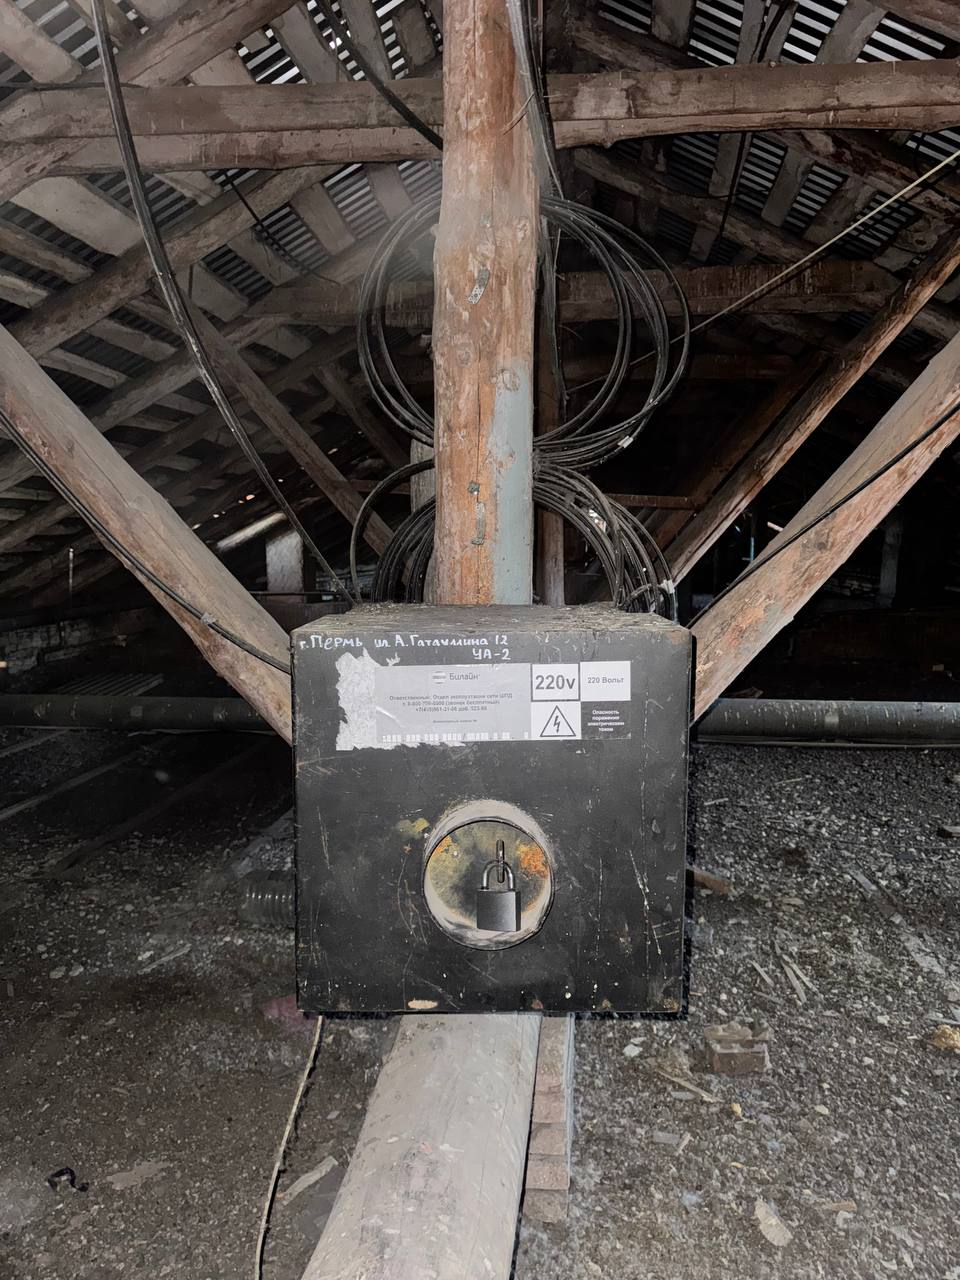shta-9: (275, 591, 707, 1027)
